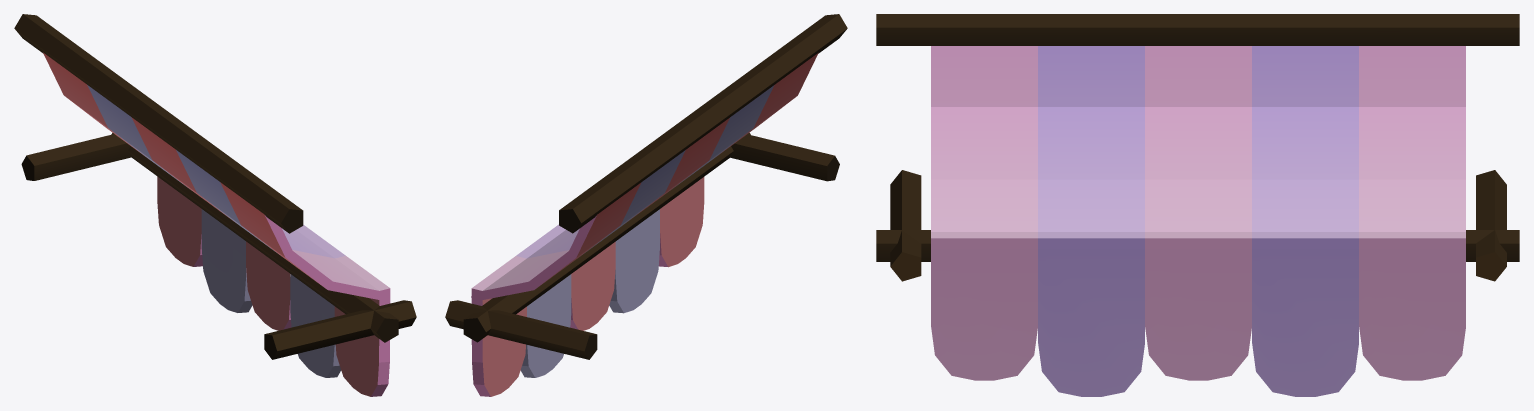
Rendered from cutepack2023smallawning 1.fbx.
The picture shows the model from 3 angles, left to right: view 1: azimuth 30°, elevation 25°; view 2: azimuth 150°, elevation 25°; view 3: azimuth 270°, elevation 25°; orthographic projection. The views are drawn at different scales.
Visible parts, largest first — view 1: Plane.014; view 2: Plane.014; view 3: Plane.014.
Boxes of the visible parts, x1=… form: Plane.014: x1=14, y1=14, x2=416, y2=396; Plane.014: x1=445, y1=14, x2=847, y2=396; Plane.014: x1=876, y1=14, x2=1519, y2=396.
Bounding box in the file's own units: 97.25 × 169 × 317.
